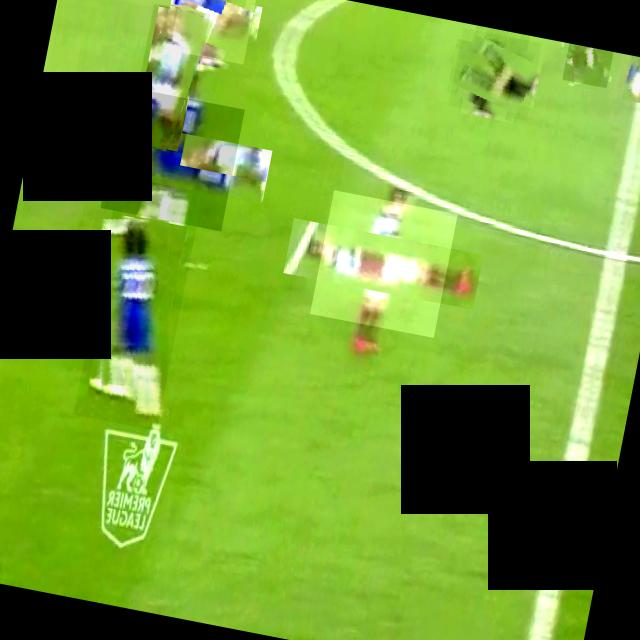referee: (448, 26, 542, 120)
soccer-player: (72, 210, 196, 430), (309, 189, 457, 337), (100, 85, 243, 230), (126, 2, 210, 152), (169, 0, 257, 63), (562, 42, 612, 88), (620, 54, 640, 107)
